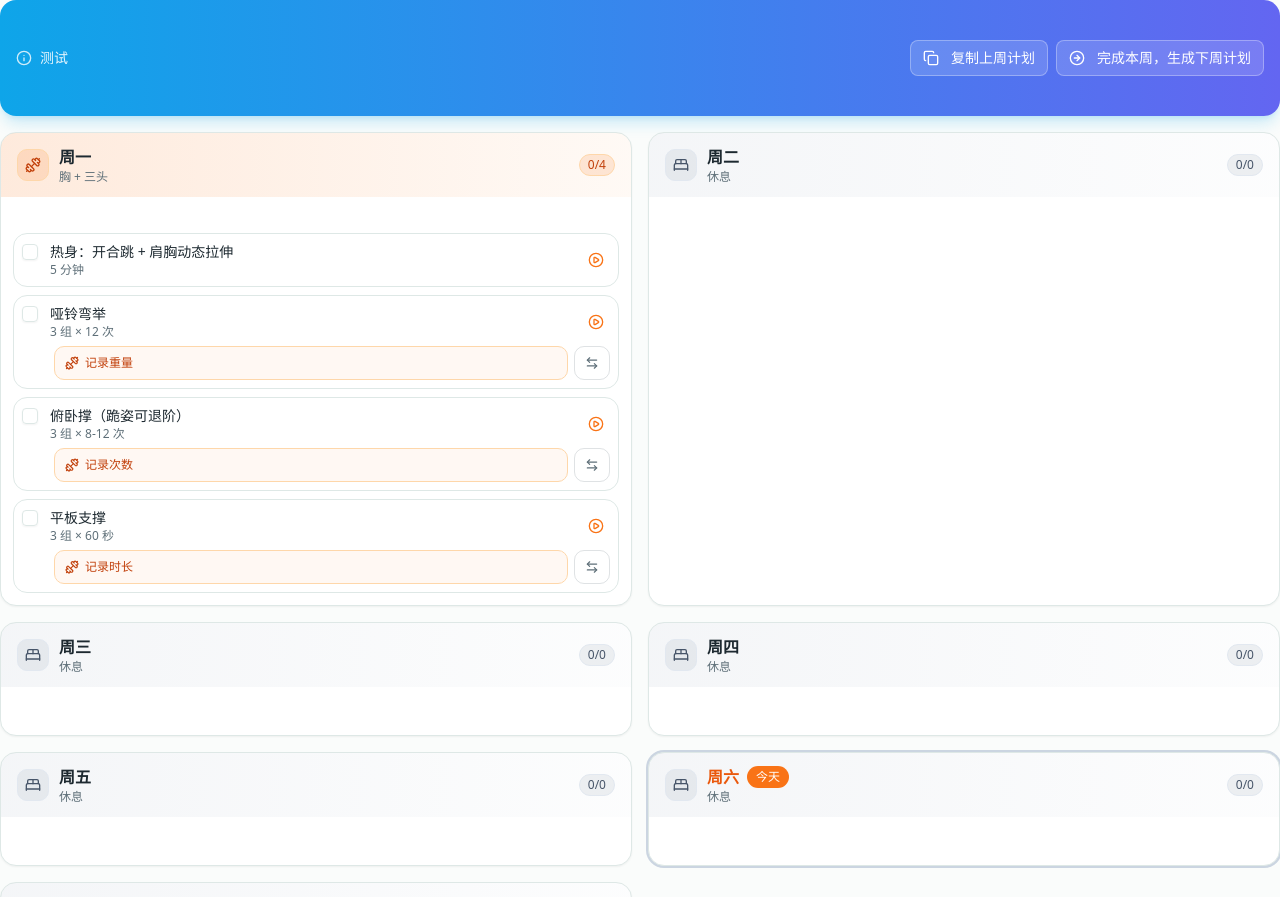
Test case: 负重动作（哑铃弯举） › 点 X 关闭丢弃本次修改：不保存、重开后恢复默认
Click the button "记录重量". click: point(109, 362)
box: [54,346,568,380]
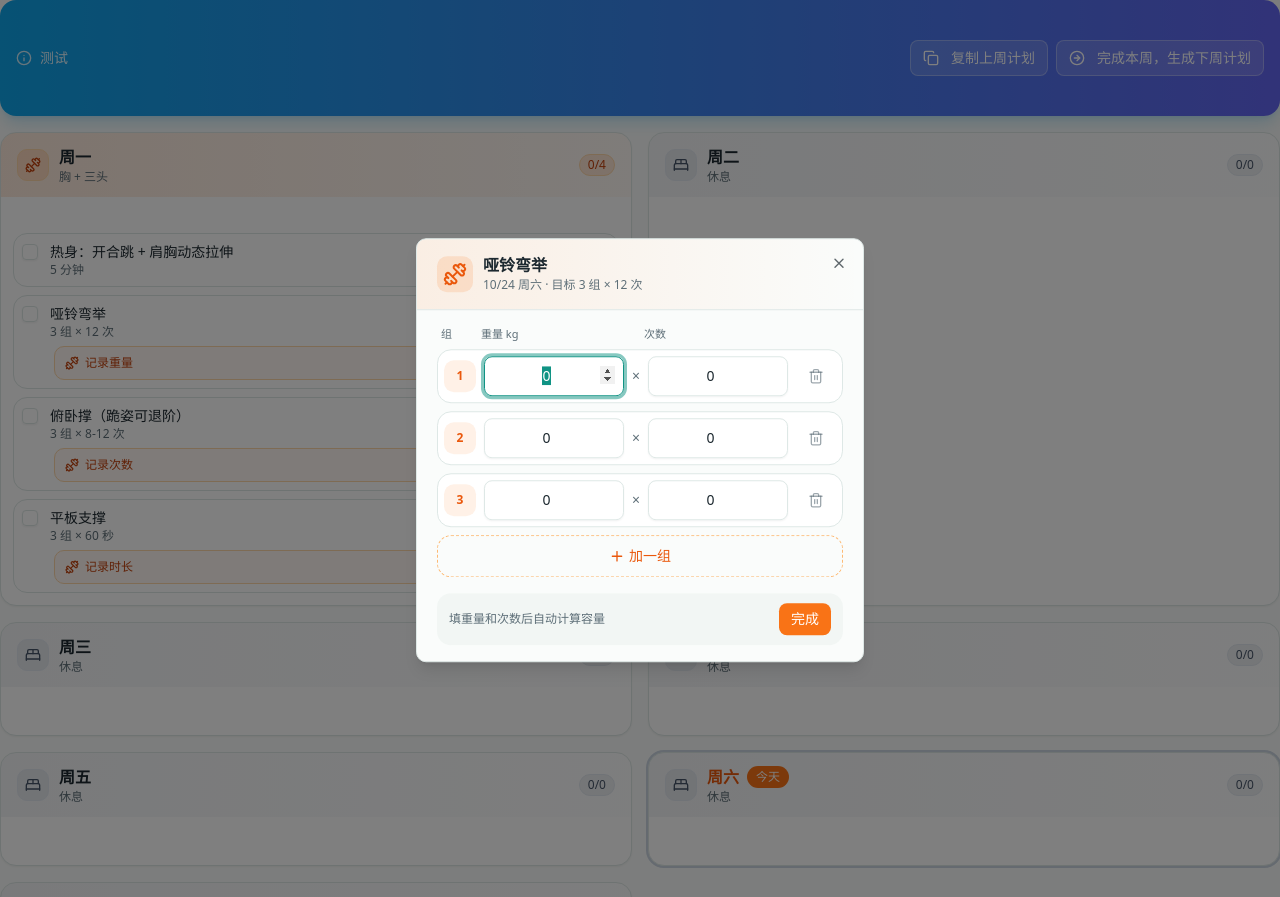
Type "12.5" into the number field named "第 1 组重量（kg）". click: point(554, 376)
box: [484,356,624,396]
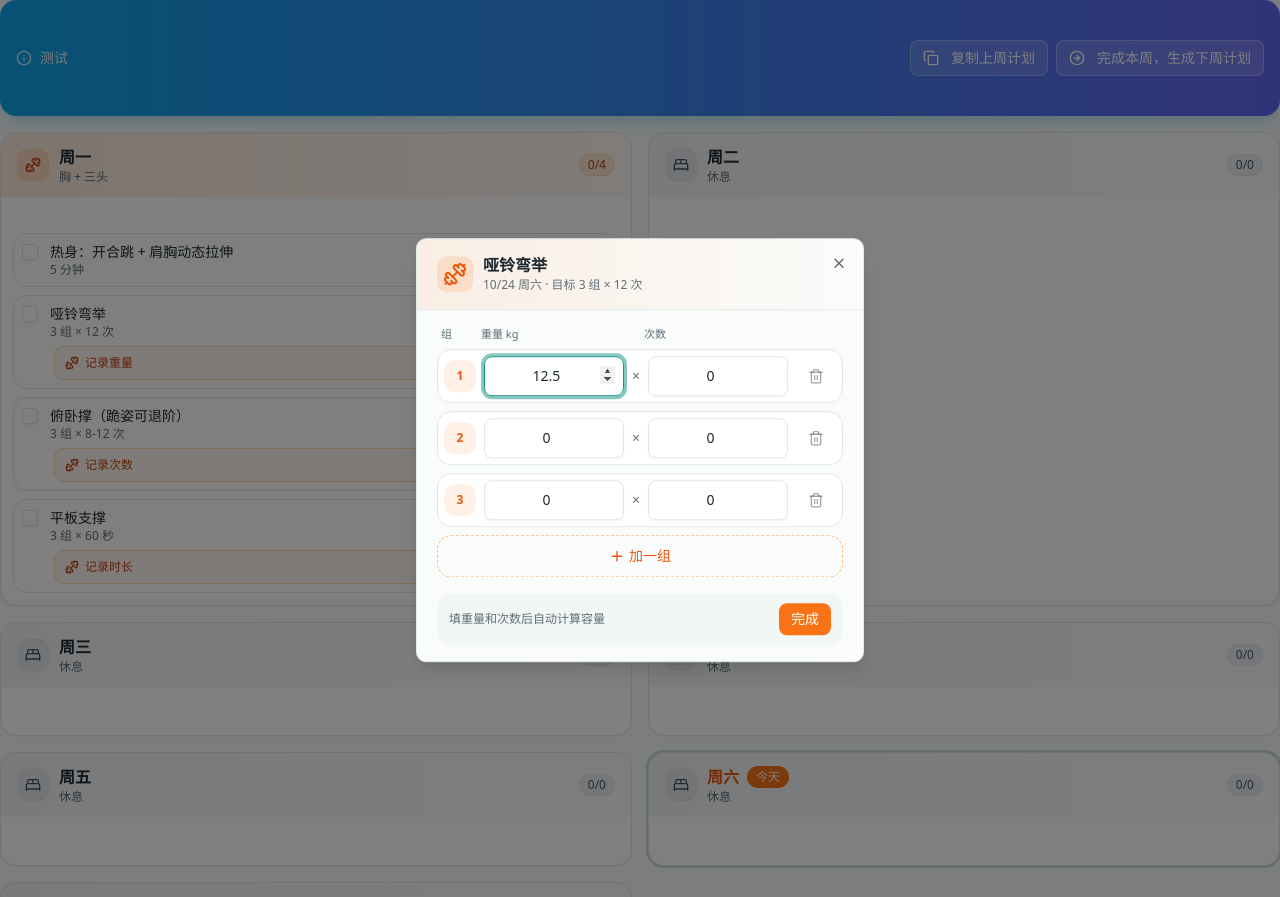
Replace the text in the number field named "第 1 组次数" with "10". click: point(718, 376)
box: [648,356,788,396]
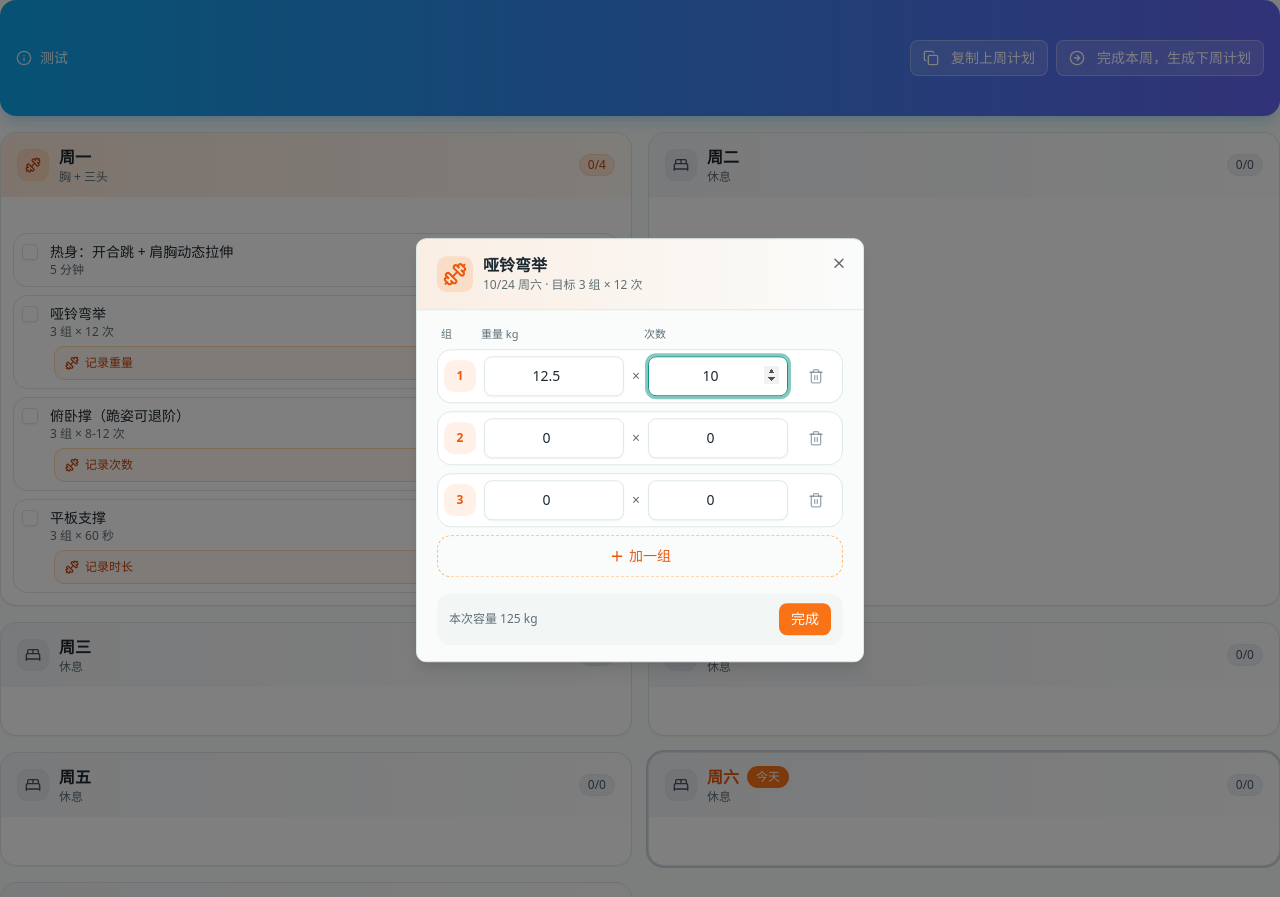
Click the button named "Close". click: point(839, 263)
box: [831,255,847,271]
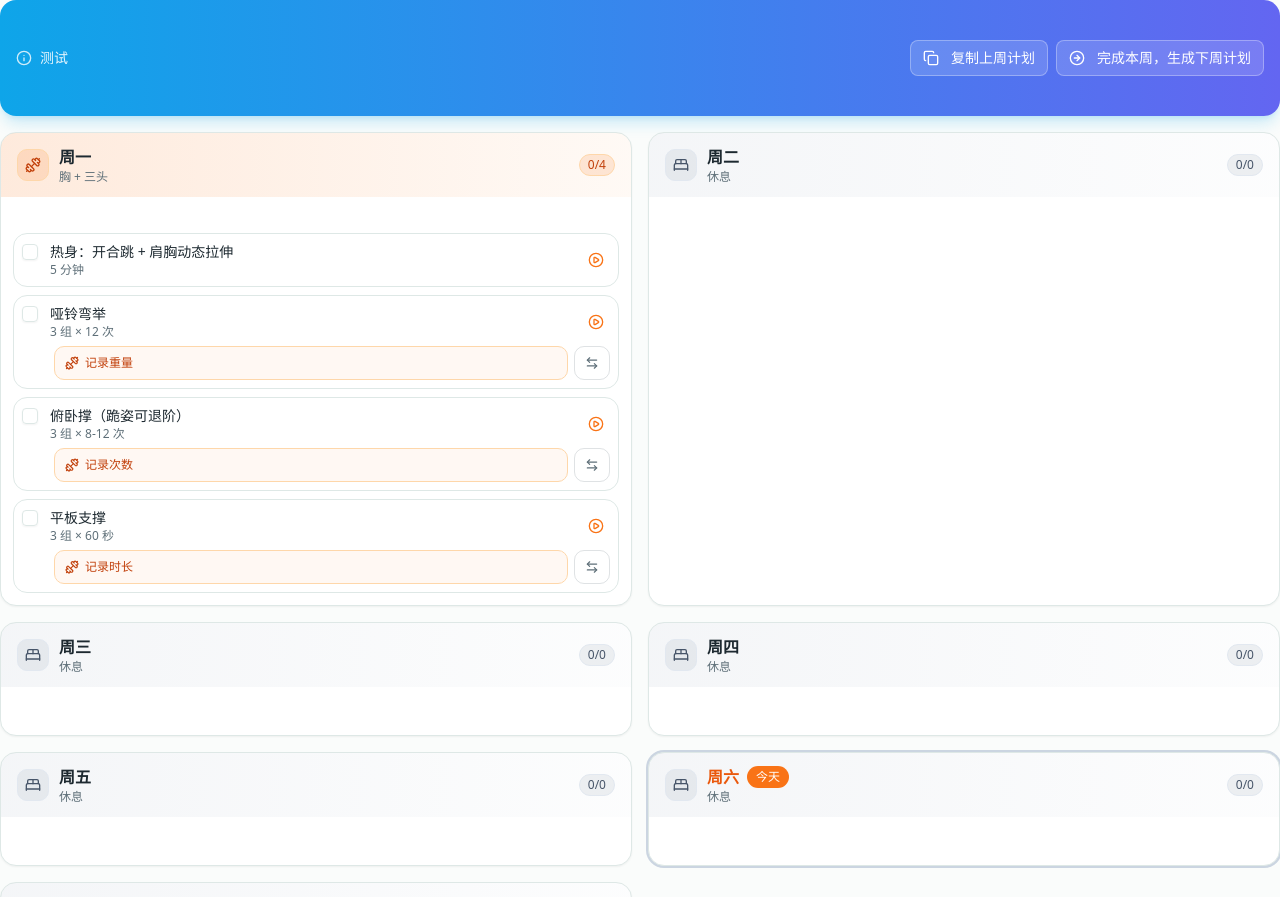
expect the dialog is gone: met
Click the button "记录重量". click: point(109, 362)
box: [54,346,568,380]
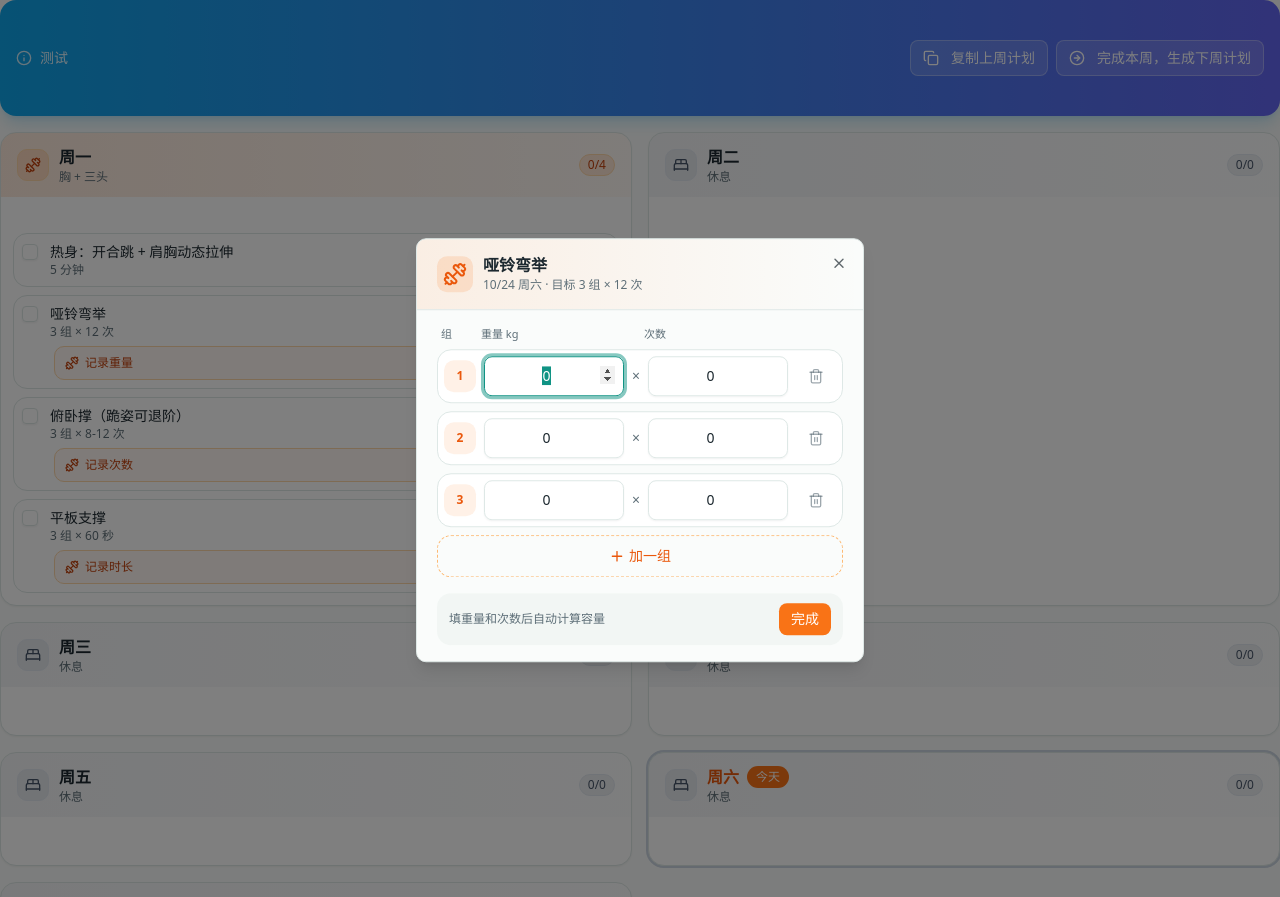
expect the number field named "第 1 组重量（kg）" holds "0": met, box [484,356,624,396]
